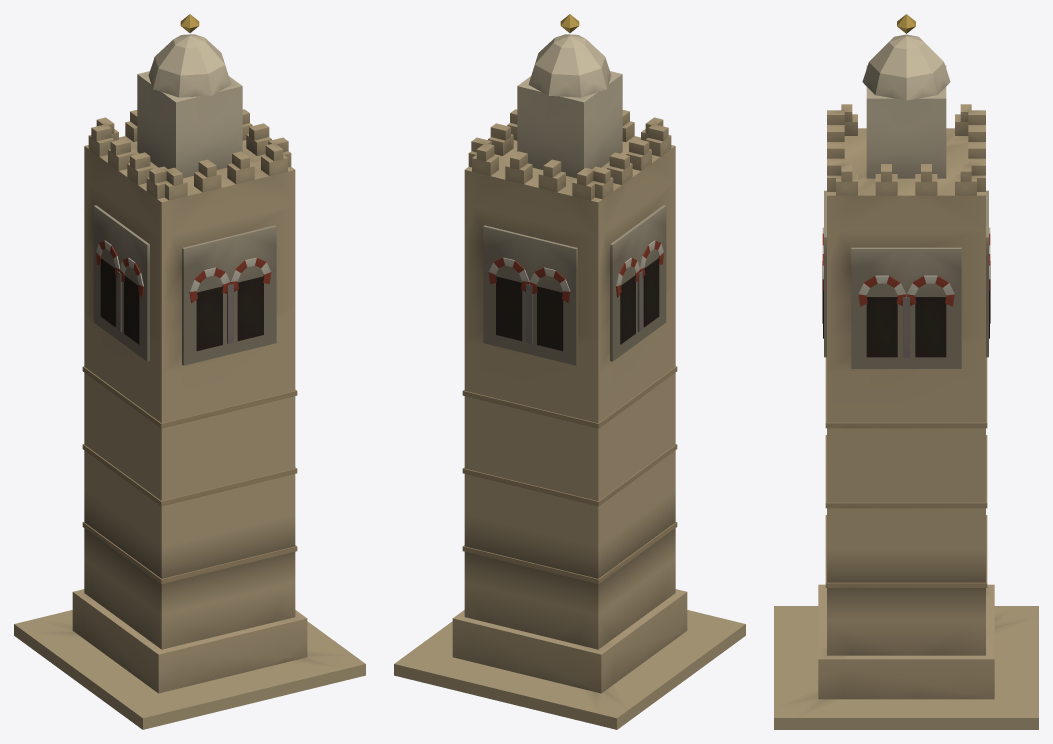
Rendered from minaret-san-juan.glb.
3 renders of one model, left to right at view 1: azimuth 30°, elevation 25°; view 2: azimuth 150°, elevation 25°; view 3: azimuth 270°, elevation 25°, orthographic. The views are drawn at different scales.
Parts seen in each view (by area): view 1: p1_shaft, p2_top, p0_base; view 2: p1_shaft, p2_top, p0_base; view 3: p1_shaft, p0_base, p2_top.
Part boxes in pixels (box(x1,y1,x2,y2)): p1_shaft: box(72, 136, 307, 693); p2_top: box(88, 14, 291, 200); p0_base: box(14, 610, 365, 729); p1_shaft: box(452, 136, 687, 693); p2_top: box(468, 14, 671, 200); p0_base: box(394, 610, 745, 729); p1_shaft: box(818, 128, 994, 699); p0_base: box(774, 606, 1038, 729); p2_top: box(827, 14, 985, 195).
Bounding box in the file's own units: 6 × 16.5 × 6.
